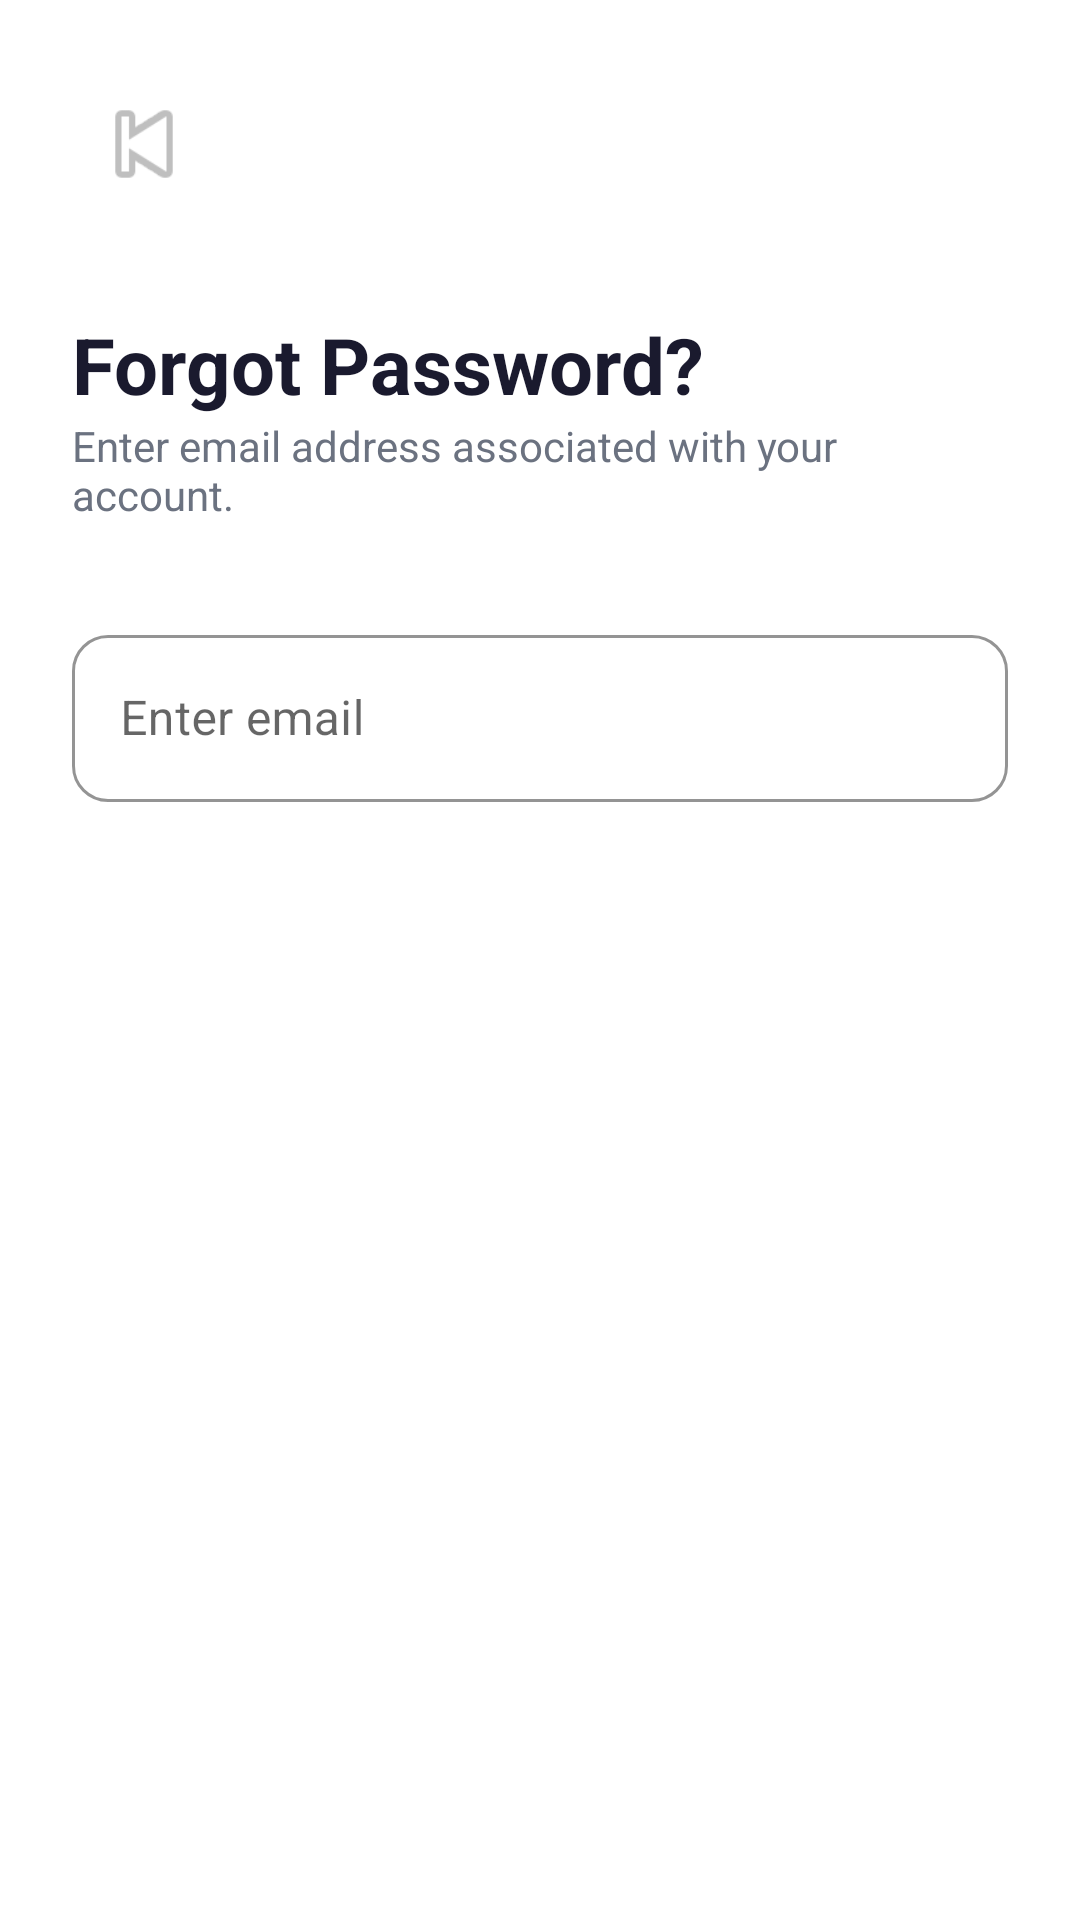

Icon click points for this 1080*1920 phone screenshot, format (x=x, y=y):
Back: (x=144, y=144)
